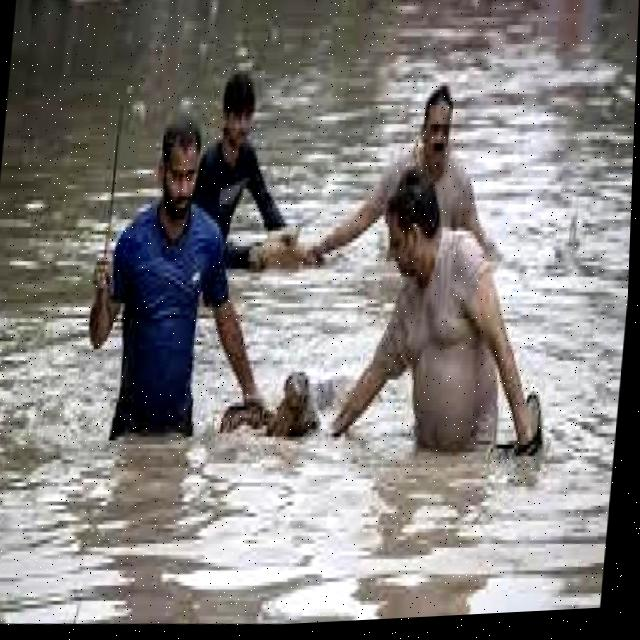civilian: (343, 168, 563, 495), (60, 106, 244, 459), (186, 45, 293, 287), (348, 66, 481, 255)
